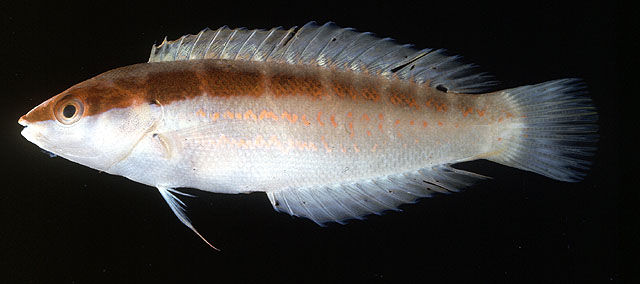fish: (16, 20, 597, 251)
